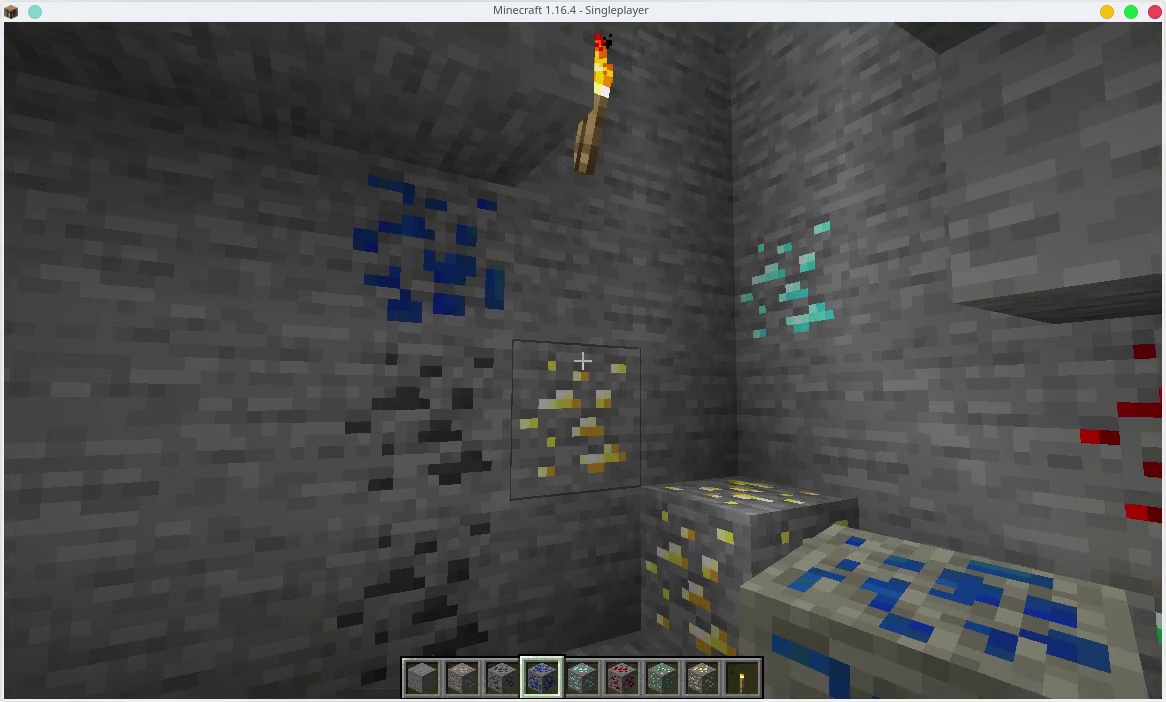gold: (510, 345, 637, 489), (636, 486, 740, 651), (688, 662, 714, 698)
